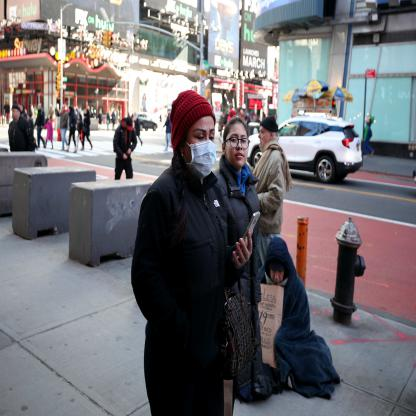Not_Wearing_Mask: (223, 119, 253, 175), (255, 114, 277, 154), (266, 249, 287, 288), (11, 106, 22, 124)
Wearing_Mask: (181, 107, 217, 179)
